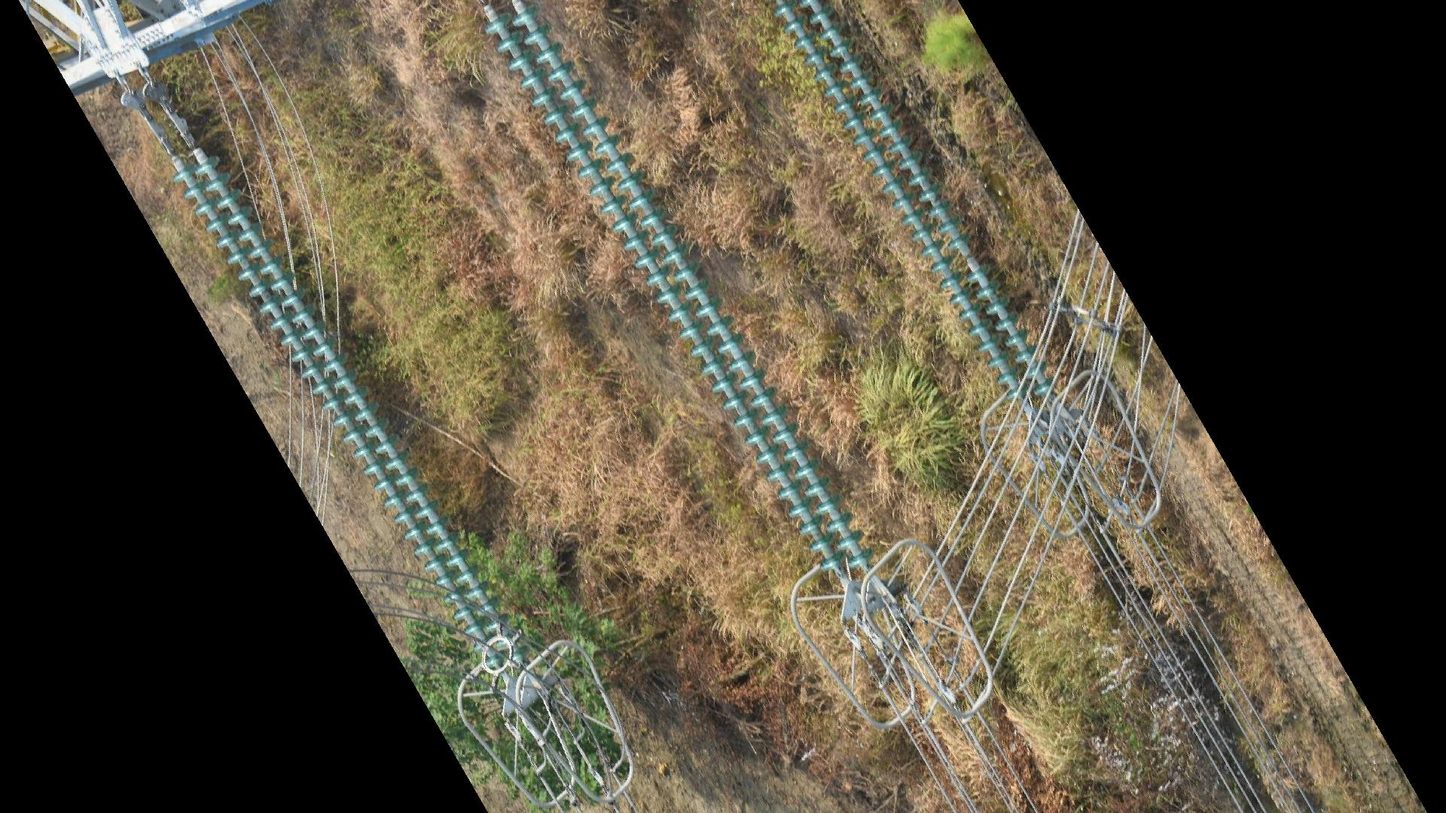insulator: (480, 4, 877, 574), (166, 151, 532, 671), (773, 1, 1059, 404)
insulator_stringdrop: (944, 232, 991, 285)
